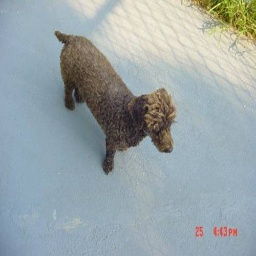dog: (56, 28, 176, 175)
